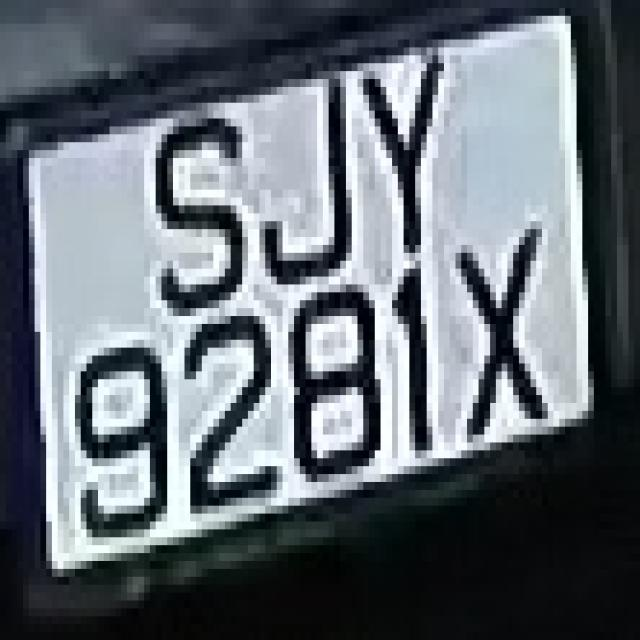1: (398, 237, 450, 482)
2: (173, 308, 288, 522)
8: (271, 245, 392, 482)
9: (69, 340, 179, 569)
J: (259, 55, 369, 292)
S: (132, 95, 254, 332)
X: (444, 190, 565, 458)
Y: (358, 32, 467, 260)
